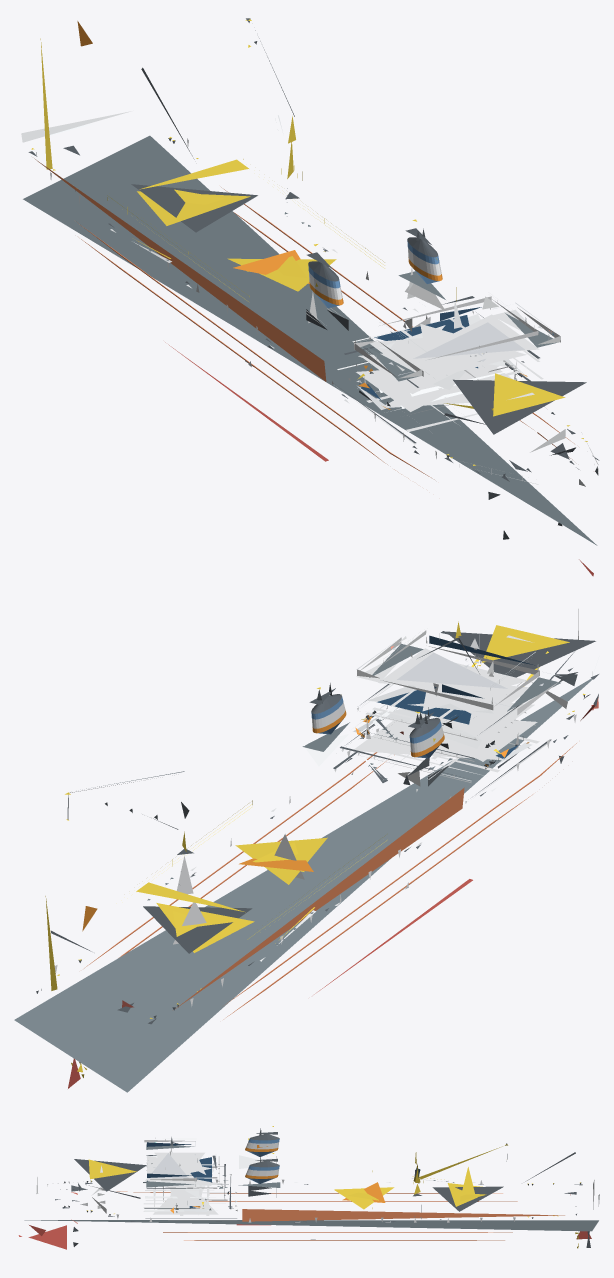
File: ship_26.glb
3 views of the same model, one above another, from view 1: azimuth 30°, elevation 25°; view 2: azimuth 150°, elevation 25°; view 3: azimuth 270°, elevation 25° (orthographic). The views are drawn at different scales.
Visible parts, largest first — view 1: TrueHelm_Ship_26; view 2: TrueHelm_Ship_26; view 3: TrueHelm_Ship_26.
Part boxes in pixels (x1,y1,x2,y2): TrueHelm_Ship_26: (21,18,599,576); TrueHelm_Ship_26: (14,609,599,1092); TrueHelm_Ship_26: (18,1126,599,1249).
Bounding box in the file's own units: 0.152 × 0.1892 × 0.7815.
